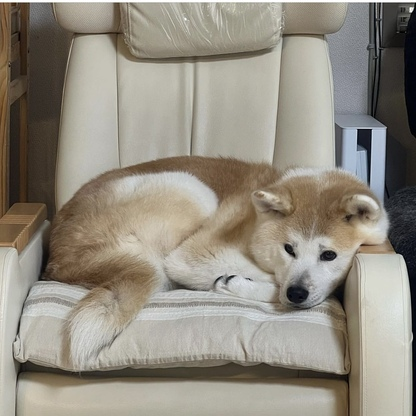akita: (38, 144, 398, 376)
